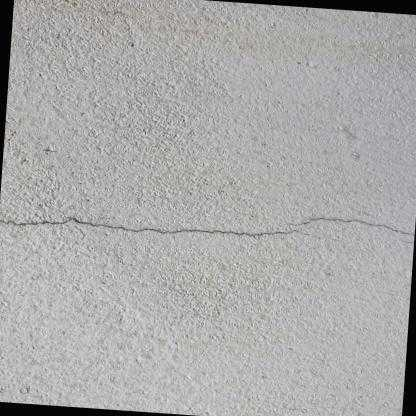crack: (0, 214, 298, 240), (289, 215, 415, 236), (399, 238, 414, 244)
